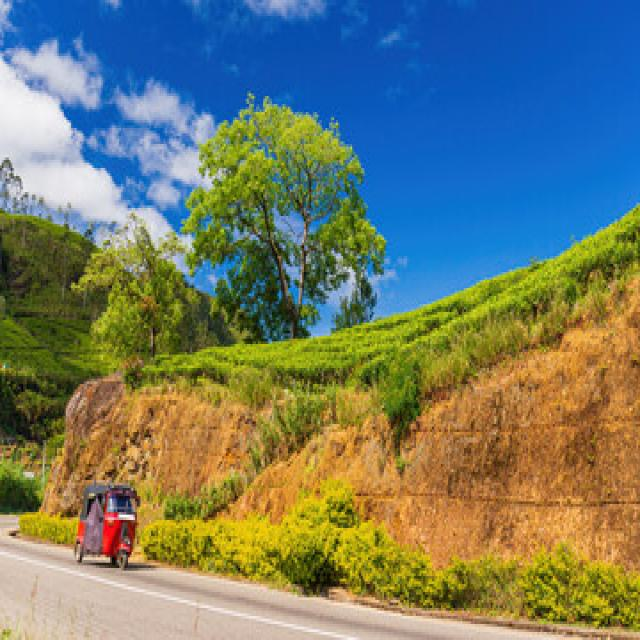three wheeler: (75, 483, 135, 568)
